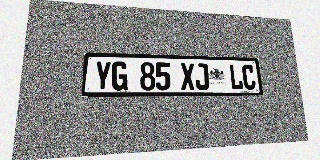5: (155, 62, 171, 90)
8: (140, 62, 155, 90)
C: (241, 64, 256, 90)
G: (111, 61, 128, 91)
J: (194, 63, 209, 90)
L: (229, 64, 244, 90)
X: (180, 63, 195, 90)
Y: (94, 61, 111, 91)
